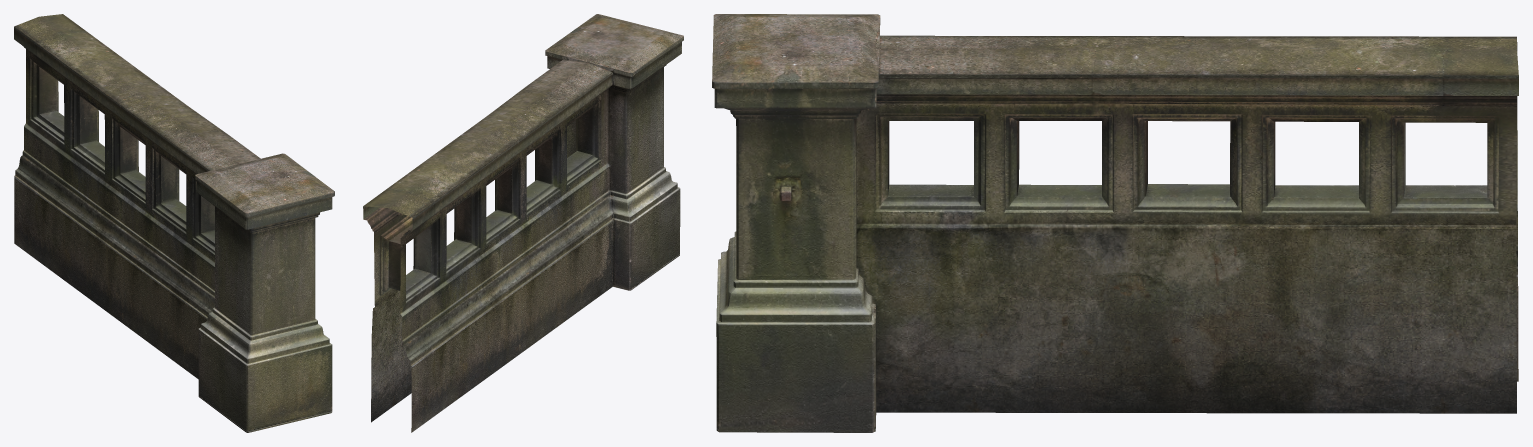
File: sm_GraveBanister_01_02.fbx
3 renders of one model, left to right at view 1: azimuth 30°, elevation 25°; view 2: azimuth 150°, elevation 25°; view 3: azimuth 270°, elevation 25°, orthographic. The views are drawn at different scales.
Parts seen in each view (by area): view 1: sm_GraveBanister_01_02_LOD0; view 2: sm_GraveBanister_01_02_LOD0; view 3: sm_GraveBanister_01_02_LOD0.
Part boxes in pixels (x1,y1,x2,y2): sm_GraveBanister_01_02_LOD0: (14, 14, 334, 432); sm_GraveBanister_01_02_LOD0: (363, 14, 683, 432); sm_GraveBanister_01_02_LOD0: (712, 14, 1518, 432).
Bounding box in the file's own units: 42.61 × 209 × 102.
